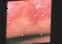plaque psoriasis: (21, 0, 53, 27), (5, 0, 25, 35), (35, 39, 51, 43)
